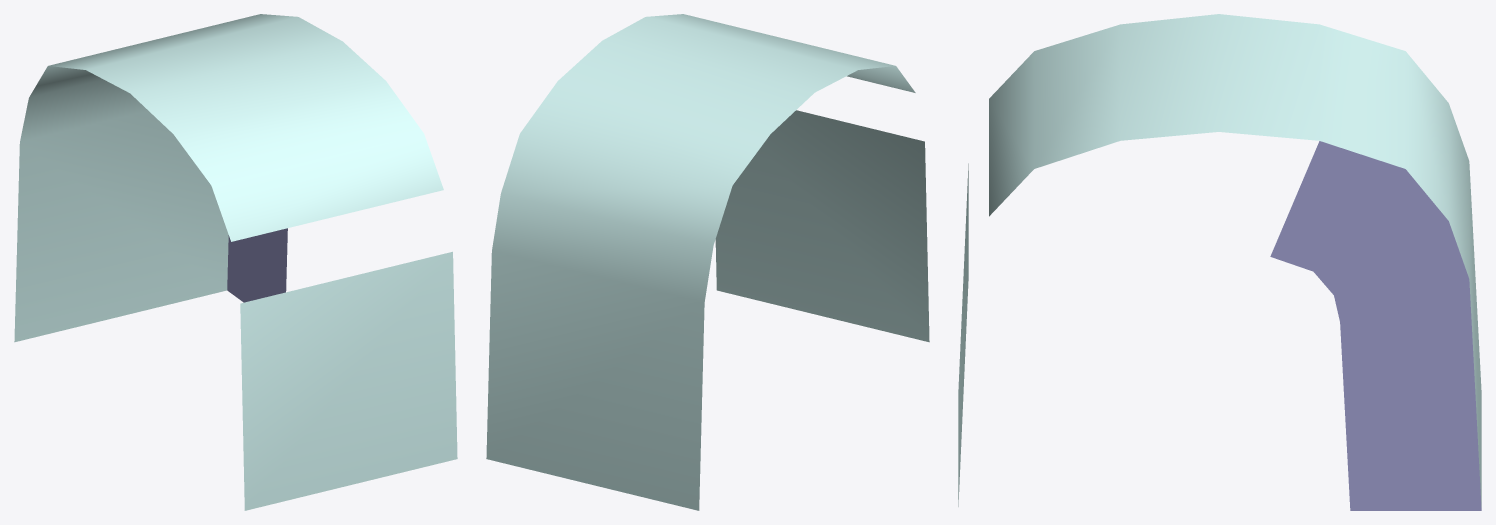
File: arch.comp.obj
3 views of the same model, side by side, from view 1: azimuth 30°, elevation 25°; view 2: azimuth 150°, elevation 25°; view 3: azimuth 270°, elevation 25° (orthographic). The views are drawn at different scales.
Parts seen in each view (by area): view 1: arch1.obj, arch2.obj; view 2: arch1.obj; view 3: arch1.obj, arch2.obj.
Part boxes in pixels (x1,y1,x2,y2): arch1.obj: [14, 14, 457, 510]; arch2.obj: [227, 228, 287, 302]; arch1.obj: [486, 14, 929, 510]; arch1.obj: [958, 14, 1481, 507]; arch2.obj: [1270, 141, 1481, 510].
Bounding box in the file's own units: 3 × 4.5 × 5.63.
